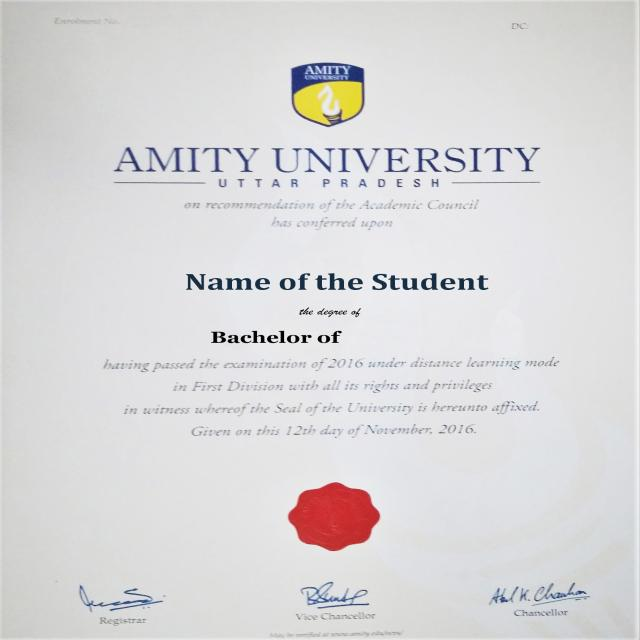signature: (72, 579, 166, 632), (481, 583, 596, 620), (298, 584, 389, 620)
